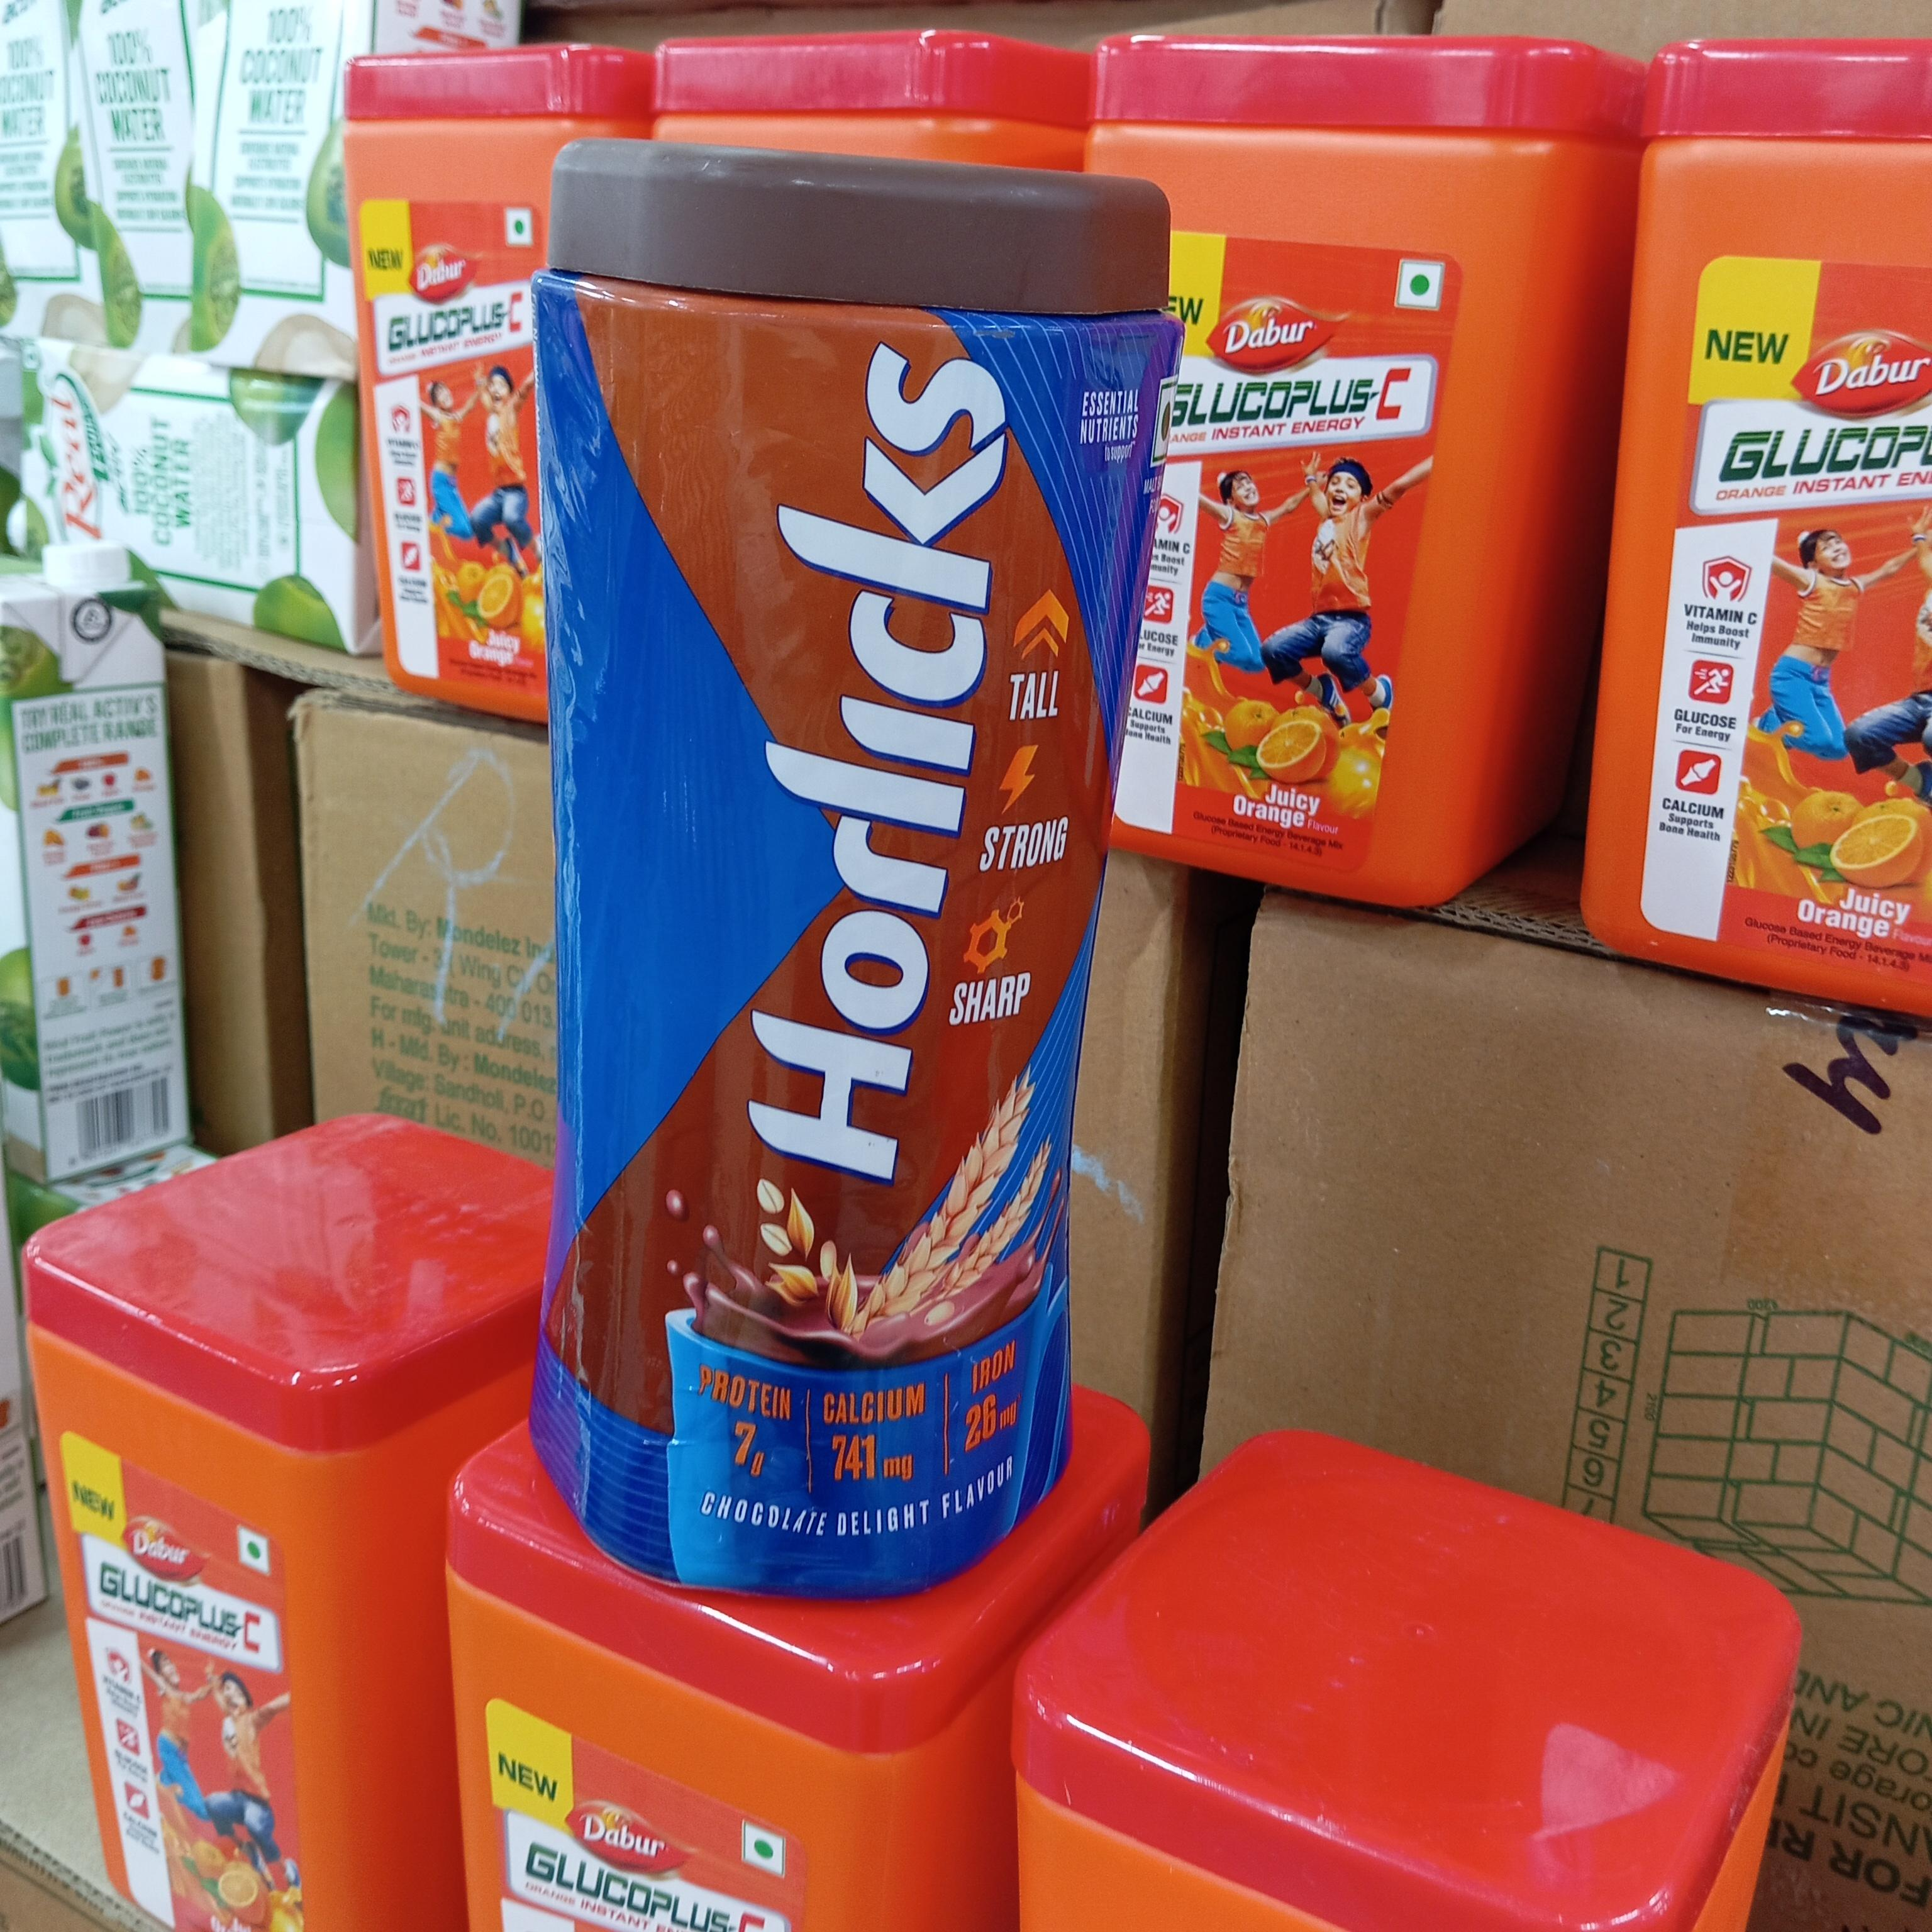HORLICK_CHOCOLATE_1_KG_JAR: (531, 142, 1169, 1610)
